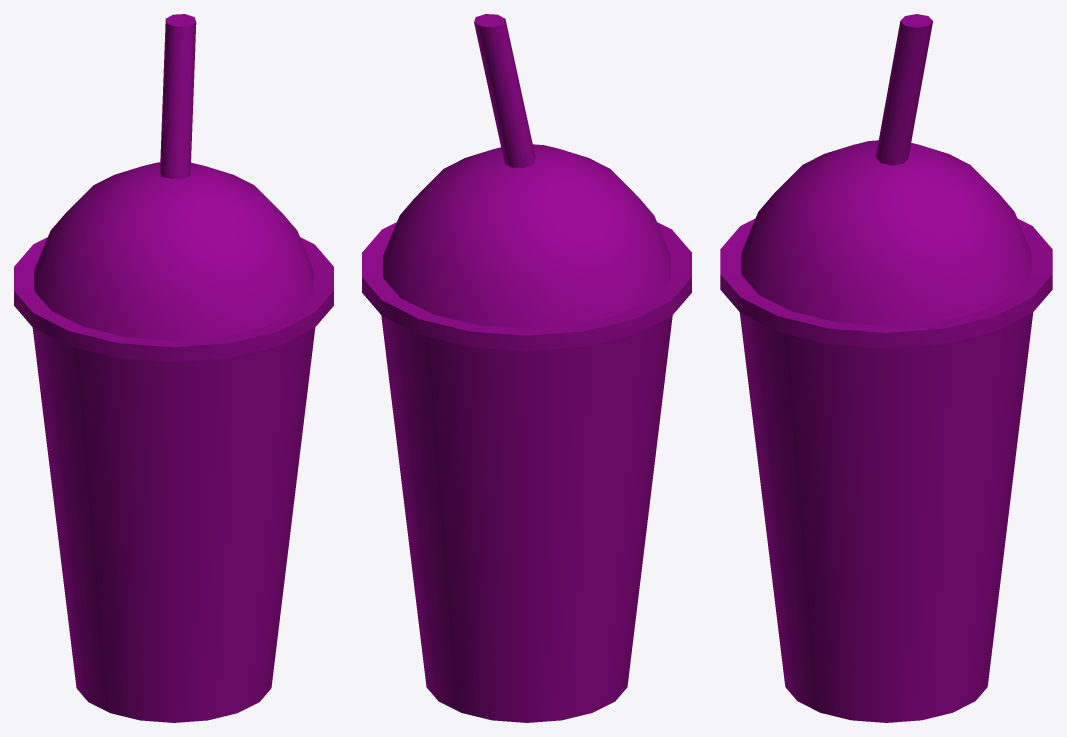
File: Drink.FBX
The picture shows the model from 3 angles, left to right: view 1: azimuth 30°, elevation 25°; view 2: azimuth 150°, elevation 25°; view 3: azimuth 270°, elevation 25°; orthographic projection. The views are drawn at different scales.
Parts seen in each view (by area): view 1: Cylinder001; view 2: Cylinder001; view 3: Cylinder001.
Part boxes in pixels (<box>): Cylinder001: <box>14,14,333,722</box>; Cylinder001: <box>362,14,691,722</box>; Cylinder001: <box>720,14,1052,722</box>.
Bounding box in the file's own units: 16.94 × 37.09 × 16.68.
